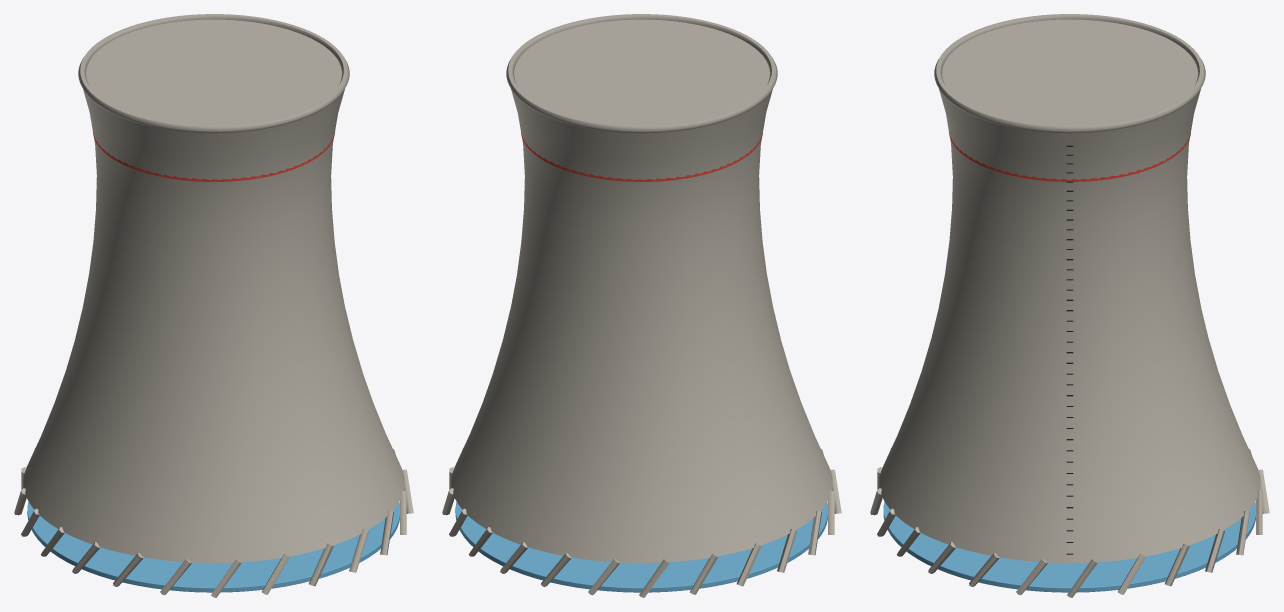
Rendered from cooling_tower.glb.
3 views of the same model, side by side, from view 1: azimuth 30°, elevation 25°; view 2: azimuth 150°, elevation 25°; view 3: azimuth 270°, elevation 25° (orthographic).
Parts seen in each view (by area): view 1: cooling_tower; view 2: cooling_tower; view 3: cooling_tower.
Part boxes in pixels (left/top/right/bottom): cooling_tower: left=14, top=14, right=413, bottom=597; cooling_tower: left=442, top=14, right=841, bottom=597; cooling_tower: left=870, top=14, right=1269, bottom=597.
Bounding box in the file's own units: 46.05 × 56.39 × 46.05.
1 material, 1 textured.
